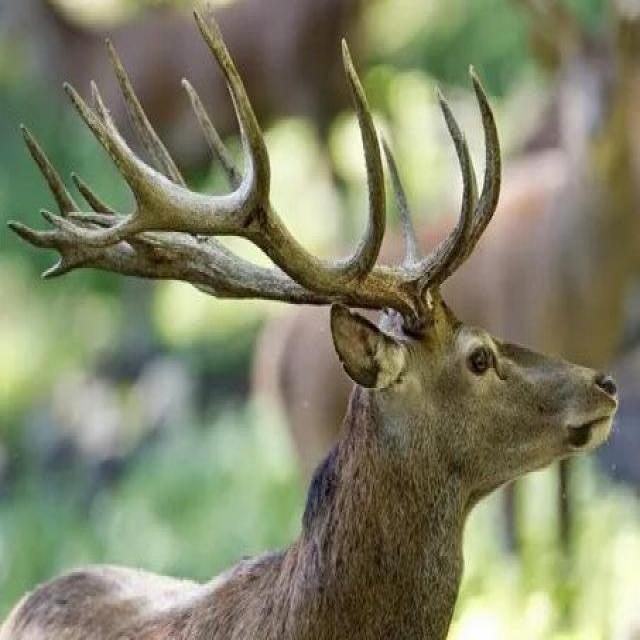deer: (135, 83, 634, 629)
